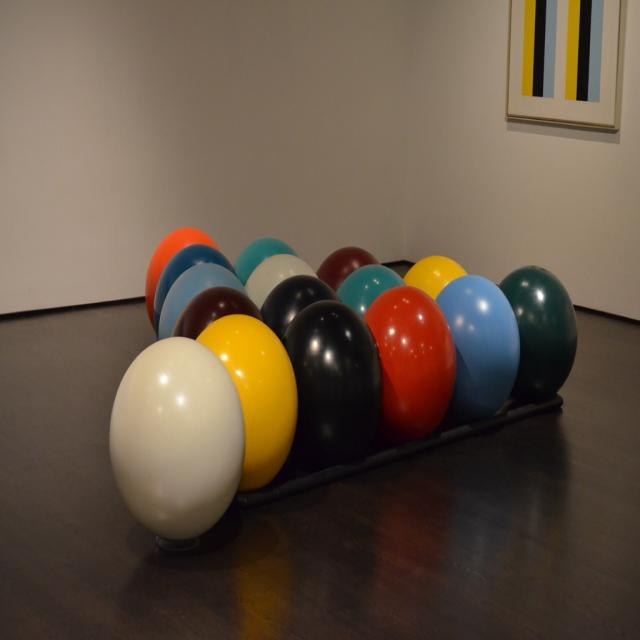Ball: (110, 227, 578, 542)
Billiard table: (0, 262, 640, 640)
